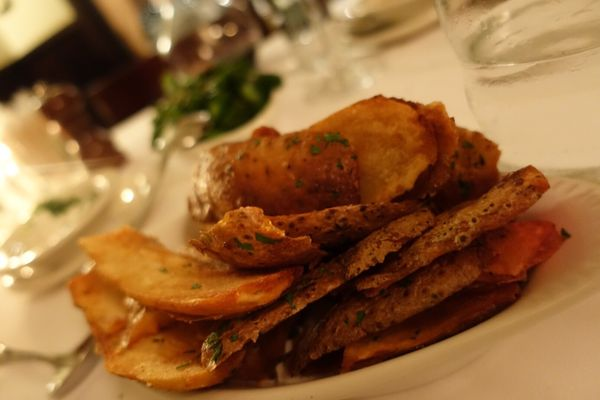curry: (149, 45, 282, 151)
pizza: (434, 0, 600, 173), (433, 0, 600, 88)
soup: (71, 91, 555, 390)
